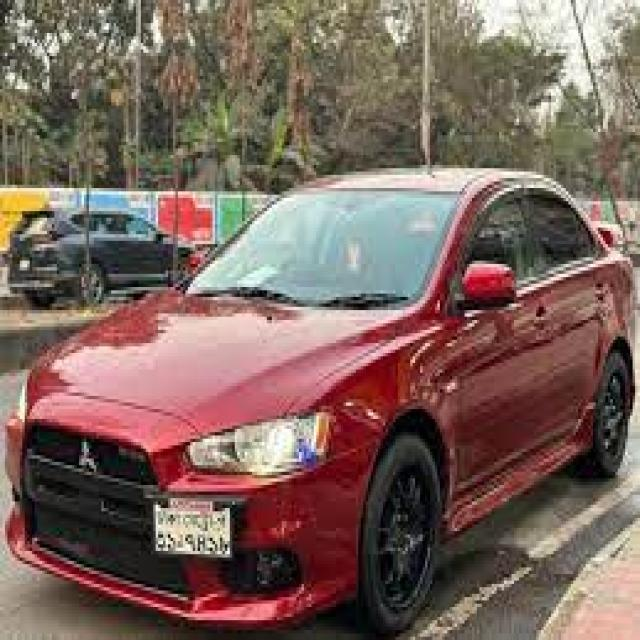black: (16, 201, 209, 310)
red: (19, 155, 636, 586)
